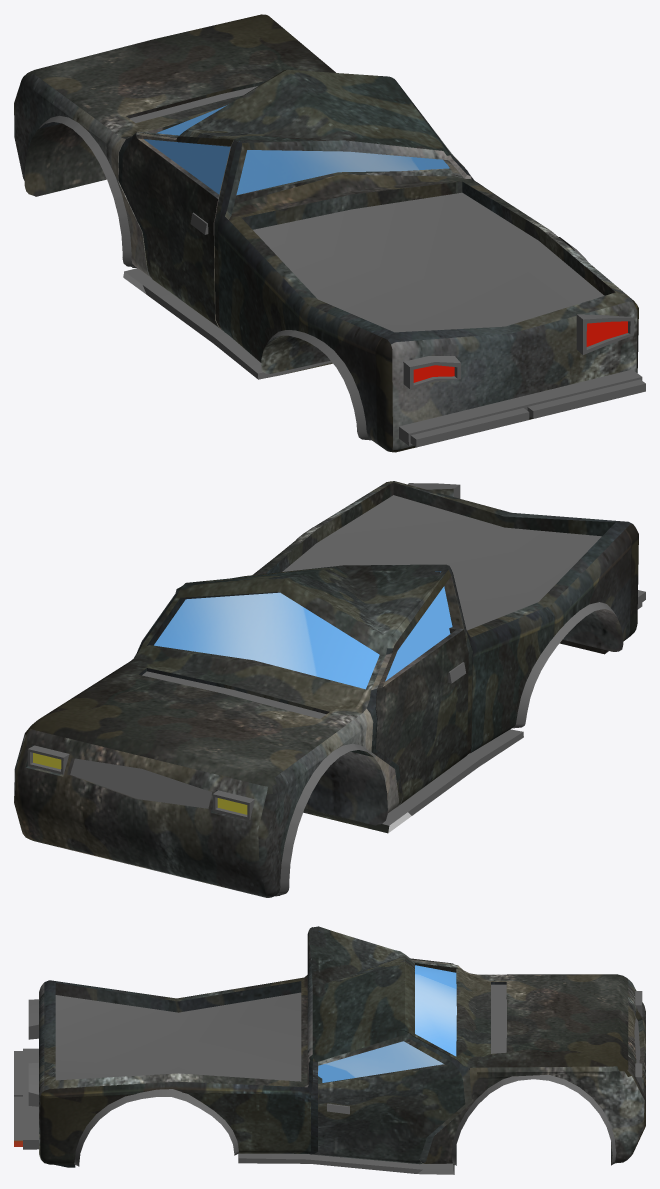
File: crash2 (1).fbx
3 renders of one model, top to bottom at view 1: azimuth 30°, elevation 25°; view 2: azimuth 150°, elevation 25°; view 3: azimuth 270°, elevation 25°, orthographic. The views are drawn at different scales.
Parts seen in each view (by area): view 1: Cube.001; view 2: Cube.001; view 3: Cube.001.
Boxes of the visible parts, <box> form: Cube.001: <box>14,14,645,452</box>; Cube.001: <box>14,481,645,897</box>; Cube.001: <box>14,926,645,1174</box>.
Size of the model in its own units: 187 by 136 by 475.
3 materials, 3 textured.
